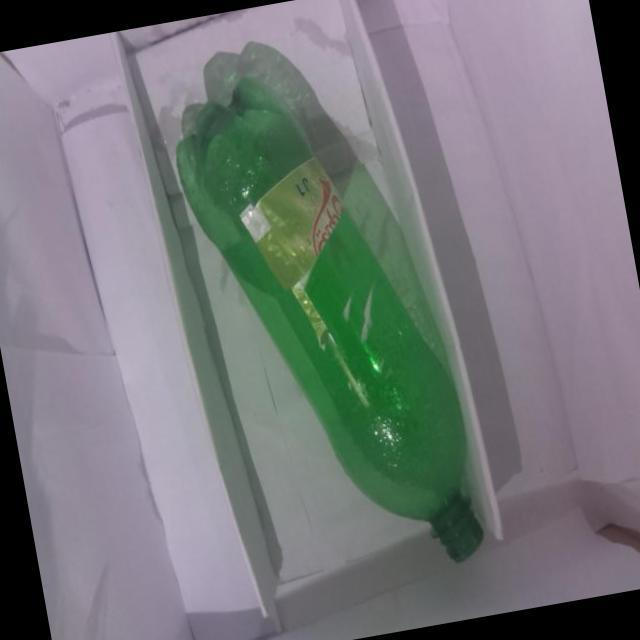good: (160, 51, 504, 611)
